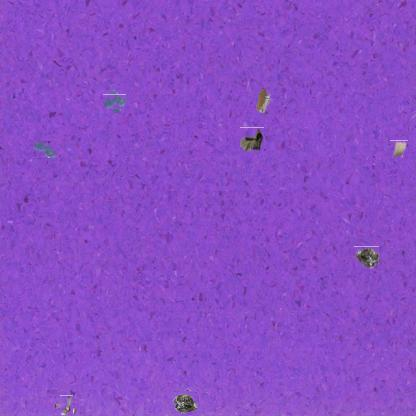dirty: (240, 127, 264, 156), (174, 389, 199, 414), (354, 246, 380, 269), (256, 90, 274, 116), (56, 398, 76, 416), (390, 140, 408, 159)
liquid: (32, 140, 56, 158), (105, 92, 124, 112)
